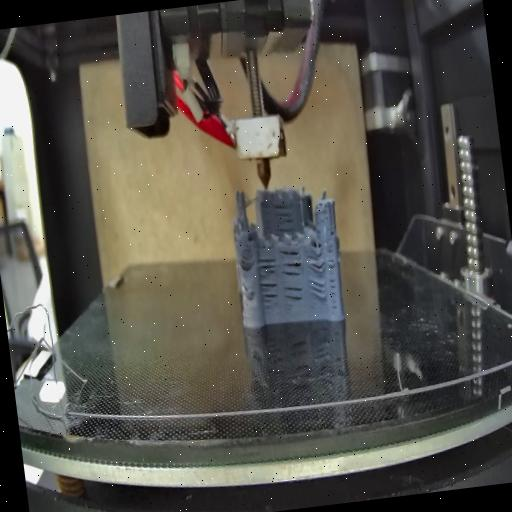cracks: (324, 247, 342, 314), (272, 202, 298, 239), (276, 248, 304, 278), (258, 279, 280, 311), (282, 284, 306, 312), (304, 276, 326, 306), (304, 249, 328, 275), (257, 252, 277, 276), (237, 248, 253, 274), (326, 226, 334, 240), (242, 282, 249, 298)
